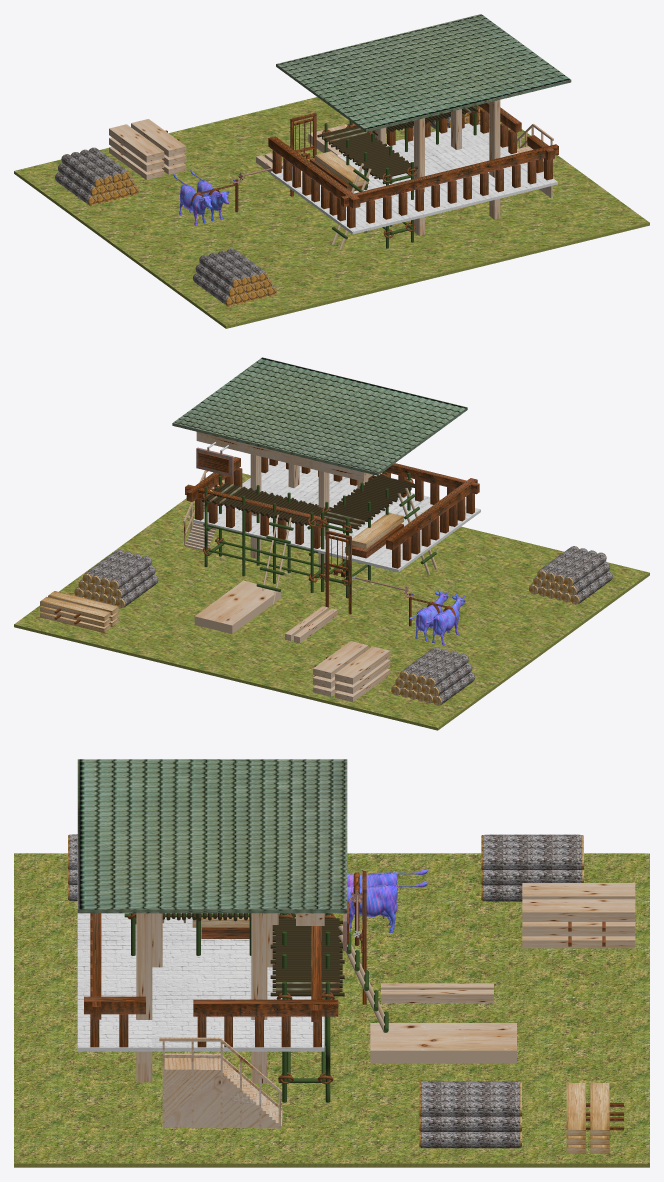
File: Elf_Sawmill.fbx
3 renders of one model, top to bottom at view 1: azimuth 30°, elevation 25°; view 2: azimuth 150°, elevation 25°; view 3: azimuth 270°, elevation 25°, orthographic. The views are drawn at different scales.
Parts seen in each view (by area): view 1: Terra, Terrat, TerraEdifici, BarandillaA, BarandillaB, EscalaAndamio.000, ListonesB, TroncosB, TroncosA, Bigas, VACAS, ListonSierra (+3 smaller); view 2: Terra, Terrat, TerraEdifici, EscalaAndamio.001, BarandillaA, ListonesB, EscalaAndamio.000, BarandillaB, TroncosA, TroncosB, TroncosC, ListonesA (+8 smaller); view 3: Terra, Terrat, TerraEdifici, ListonesB, Escala, EscalaAndamio.001, TroncosC, ListonesA, TroncosA, BarandillaB, Bigas, ListonesD (+5 smaller).
Part boxes in pixels (left/top/right/bottom): Terra: left=14, top=97, right=649, bottom=328; Terrat: left=276, top=14, right=571, bottom=132; TerraEdifici: left=270, top=123, right=557, bottom=234; BarandillaA: left=272, top=109, right=552, bottom=228; BarandillaB: left=268, top=102, right=558, bottom=208; EscalaAndamio.000: left=317, top=121, right=417, bottom=249; ListonesB: left=109, top=119, right=283, bottom=179; TroncosB: left=193, top=248, right=276, bottom=306; TroncosA: left=55, top=147, right=138, bottom=205; Bigas: left=375, top=100, right=500, bottom=235; VACAS: left=173, top=169, right=235, bottom=225; ListonSierra: left=315, top=151, right=368, bottom=187; Terra: left=14, top=473, right=649, bottom=730; Terrat: left=172, top=357, right=467, bottom=475; TerraEdifici: left=193, top=461, right=480, bottom=572; EscalaAndamio.001: left=202, top=476, right=330, bottom=604; BarandillaA: left=195, top=457, right=474, bottom=568; ListonesB: left=285, top=606, right=390, bottom=702; EscalaAndamio.000: left=318, top=470, right=437, bottom=598; BarandillaB: left=185, top=457, right=479, bottom=549; TroncosA: left=391, top=647, right=474, bottom=705; TroncosB: left=529, top=546, right=612, bottom=604; TroncosC: left=74, top=549, right=158, bottom=607; ListonesA: left=194, top=580, right=280, bottom=633; Terra: left=14, top=853, right=649, bottom=1167; Terrat: left=77, top=759, right=347, bottom=913; TerraEdifici: left=77, top=913, right=324, bottom=1051; ListonesB: left=381, top=883, right=635, bottom=1003; Escala: left=159, top=1037, right=282, bottom=1129; EscalaAndamio.001: left=270, top=913, right=388, bottom=1102; TroncosC: left=419, top=1081, right=521, bottom=1148; ListonesA: left=370, top=1023, right=516, bottom=1063; TroncosA: left=481, top=834, right=583, bottom=901; BarandillaB: left=84, top=913, right=338, bottom=1021; Bigas: left=136, top=913, right=278, bottom=1083; ListonesD: left=566, top=1083, right=609, bottom=1153.
Size of the model in its own units: 1697 by 552 by 1471.
